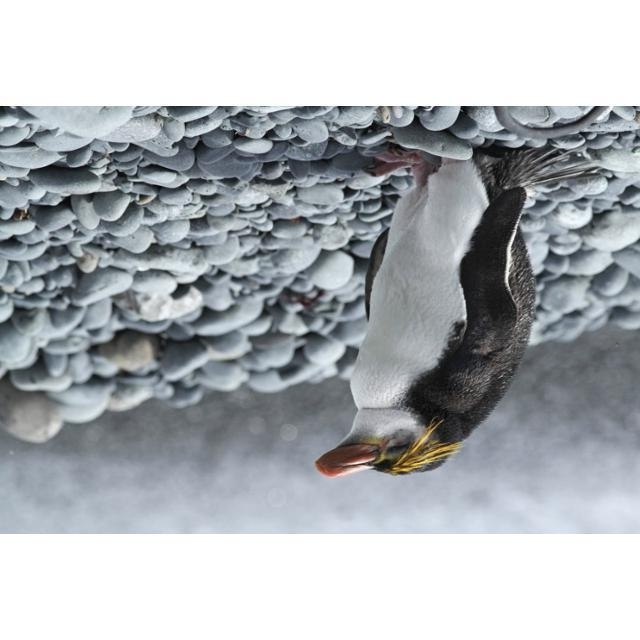penguin: (317, 140, 600, 480)
